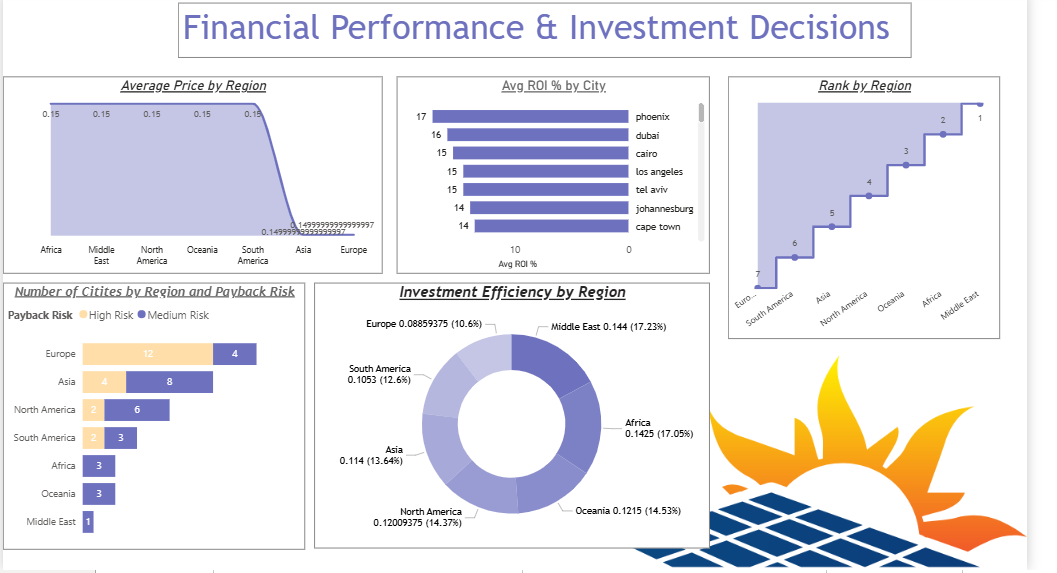

Layout of this report page (visuals, bound fields, positions):
{"tool":"powerbi","page":{"name":"Financial Performance & Investment Decisions","canvas":[1280,720],"ordinal":0},"visuals":[{"type":"textbox","box":[218.2,11,916.6,68.6],"z":0},{"type":"lineChart","title":"Average Price by Region","fields":{"Y":["Avg(solar_energy_worldwide.Electricity_Price_USD_per_kWh)"],"Category":["solar_energy_worldwide.Region"]},"box":[0,103.1,474.1,246.4],"z":1000},{"type":"barChart","fields":{"Y":["Measures Table.Avg ROI %"],"Category":["solar_energy_worldwide.City"]},"box":[491.5,103.1,391,246.4],"z":2000},{"type":"barChart","title":"Number of Citites by Region and Payback Risk","fields":{"Category":["solar_energy_worldwide.Region"],"Y":["CountNonNull(solar_energy_worldwide.City)"],"Series":["solar_energy_worldwide.Payback Risk"]},"box":[0,360.2,377.7,333.5],"z":3000},{"type":"donutChart","fields":{"Y":["Measures Table.Investment Efficiency"],"Category":["solar_energy_worldwide.Region"]},"box":[388.4,361.6,494.2,332.1],"z":4000},{"type":"lineChart","fields":{"Category":["solar_energy_worldwide.Region"],"Y":["Measures Table.Rank"]},"box":[906.6,103.1,340.2,328.1],"z":5000}]}

Visuals, with their boxes on the page's 1280x720 design canvas (x1, y1, x2, y2). These are canvas units, not pixel positions in the 1057x573 screenshot, which may show the page scaled, cropped or inside an application window:
textbox: bbox=(218, 11, 1135, 80)
"Average Price by Region" lineChart: bbox=(0, 103, 474, 350)
barChart - Measures Table.Avg ROI % x solar_energy_worldwide.City: bbox=(492, 103, 882, 350)
"Number of Citites by Region and Payback Risk" barChart: bbox=(0, 360, 378, 694)
donutChart - Measures Table.Investment Efficiency x solar_energy_worldwide.Region: bbox=(388, 362, 883, 694)
lineChart - solar_energy_worldwide.Region x Measures Table.Rank: bbox=(907, 103, 1247, 431)
